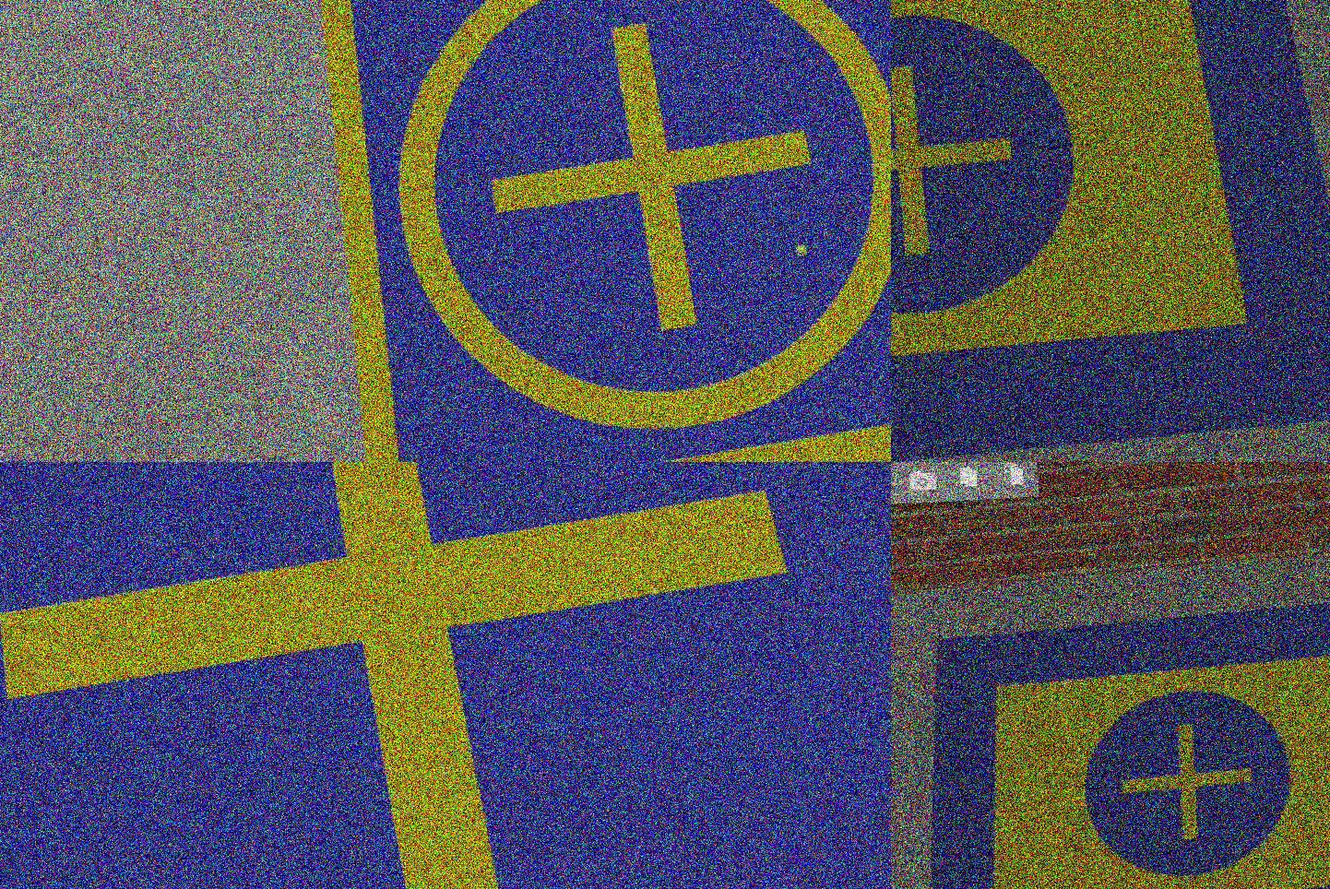large_base: (892, 1, 1330, 462), (908, 594, 1330, 889)
small_base: (1, 462, 892, 889), (303, 1, 892, 462)
